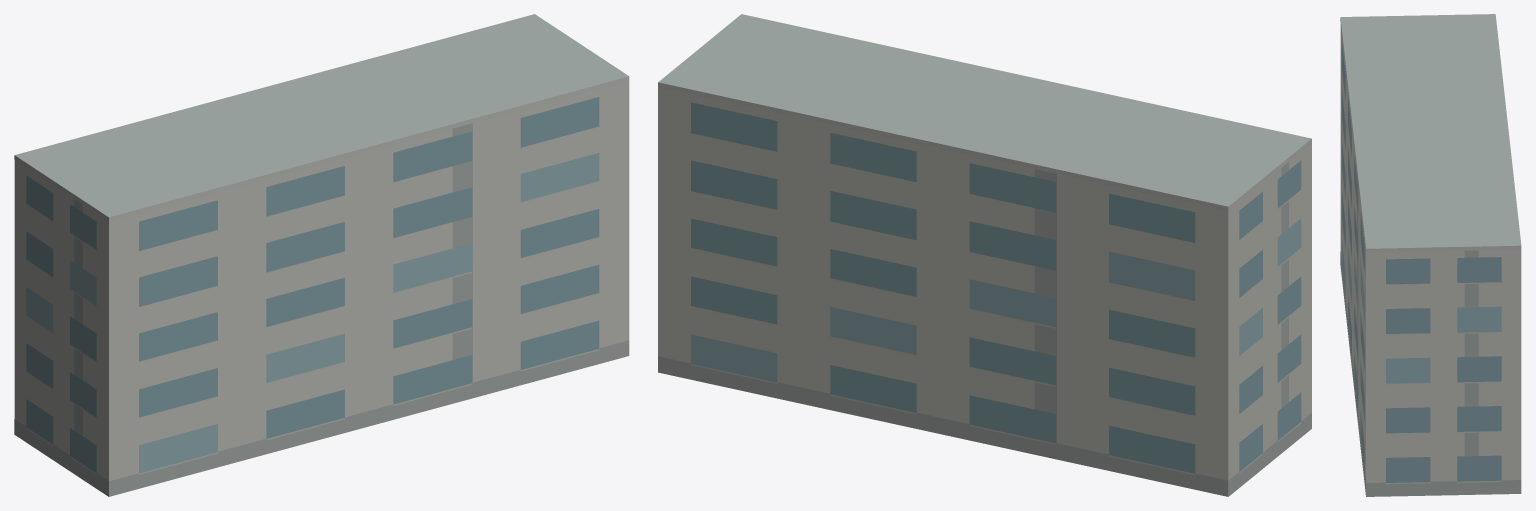
File: residential-552c33f2-aa2e-4a15-ab2c-52bc665056d8.glb
3 views of the same model, side by side, from view 1: azimuth 30°, elevation 25°; view 2: azimuth 150°, elevation 25°; view 3: azimuth 270°, elevation 25° (orthographic). The views are drawn at different scales.
Parts seen in each view (by area): view 1: residential-552c33f2-aa2e-4a15-ab2c-52bc665056d8.tmp; view 2: residential-552c33f2-aa2e-4a15-ab2c-52bc665056d8.tmp; view 3: residential-552c33f2-aa2e-4a15-ab2c-52bc665056d8.tmp.
Boxes of the visible parts, bbox=[...] form: residential-552c33f2-aa2e-4a15-ab2c-52bc665056d8.tmp: bbox=[14, 14, 629, 496]; residential-552c33f2-aa2e-4a15-ab2c-52bc665056d8.tmp: bbox=[658, 14, 1311, 496]; residential-552c33f2-aa2e-4a15-ab2c-52bc665056d8.tmp: bbox=[1340, 14, 1521, 496].
Bounding box in the file's own units: 30.95 × 15.25 × 10.09.
